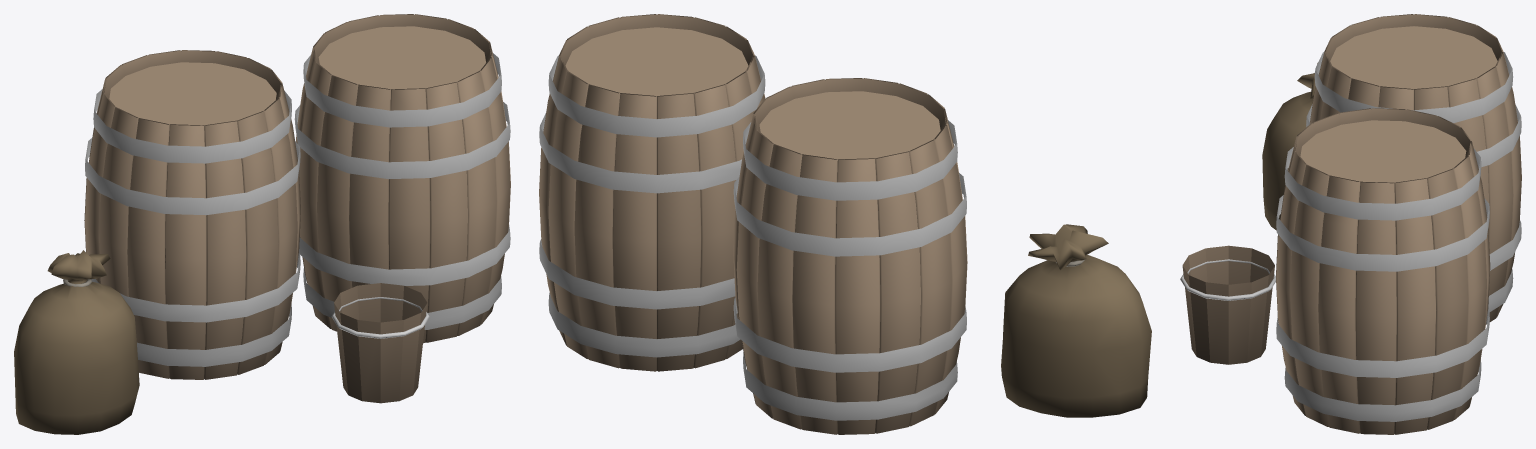
Rendered from barrels_door.glb.
3 views of the same model, side by side, from view 1: azimuth 30°, elevation 25°; view 2: azimuth 150°, elevation 25°; view 3: azimuth 270°, elevation 25° (orthographic). The views are drawn at different scales.
Parts seen in each view (by area): view 1: barrels_door; view 2: barrels_door; view 3: barrels_door.
Part boxes in pixels (bbox=[...]): barrels_door: bbox=[14, 14, 510, 434]; barrels_door: bbox=[539, 14, 1151, 434]; barrels_door: bbox=[1180, 14, 1521, 434].
Size of what is drawn, in the model's own units: 1.89 by 0.9 by 1.11.
